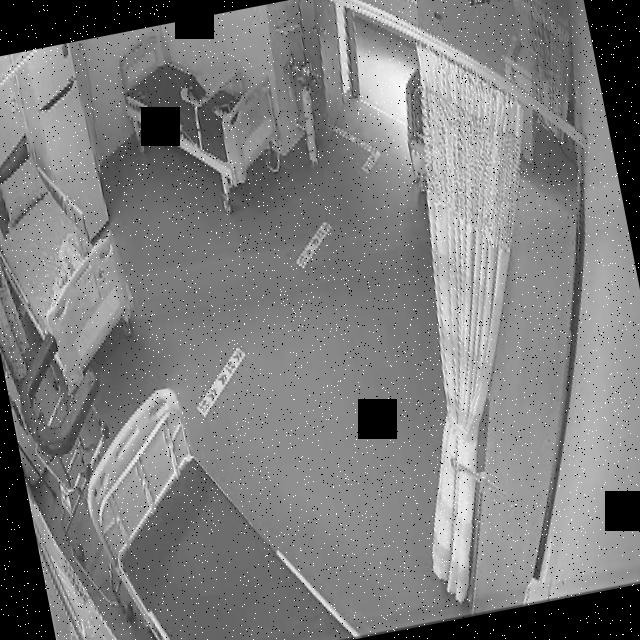bed: (68, 362, 358, 640), (0, 133, 147, 383), (110, 12, 289, 206)
walker: (11, 320, 138, 572)
